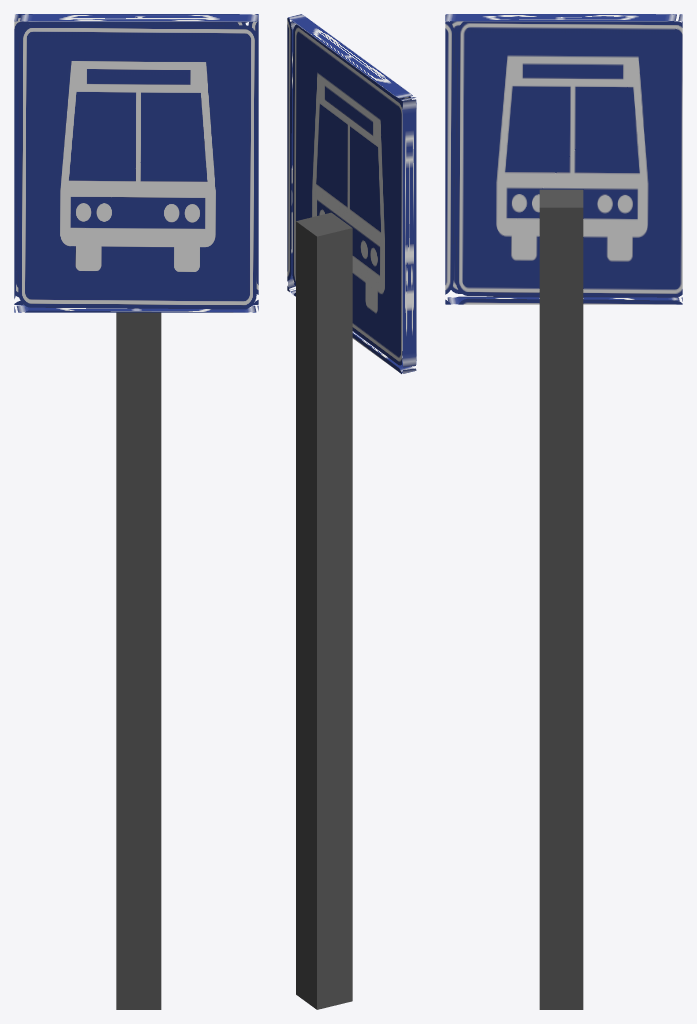
The model's file is postesenalitico.fbx.
3 renders of one model, left to right at view 1: azimuth 90°, elevation 25°; view 2: azimuth 210°, elevation 25°; view 3: azimuth 270°, elevation 25°, orthographic. The views are drawn at different scales.
Parts seen in each view (by area): view 1: Cube.015; view 2: Cube.015; view 3: Cube.015.
Boxes of the visible parts, bbox=[...] form: Cube.015: bbox=[14, 14, 258, 1009]; Cube.015: bbox=[287, 14, 416, 1009]; Cube.015: bbox=[445, 14, 682, 1009].
Bounding box in the file's own units: 88.64 × 1532 × 340.
